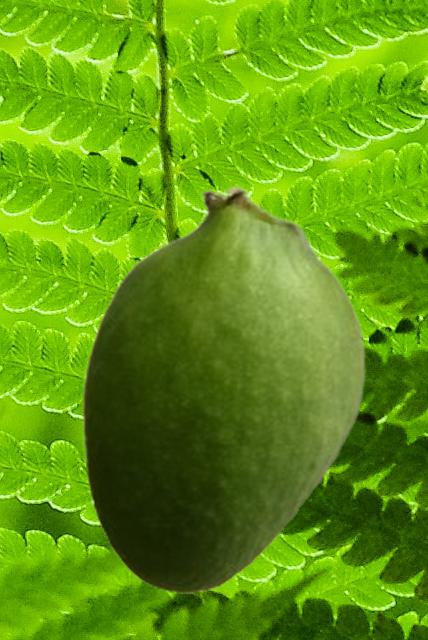green_mango: (81, 184, 365, 592)
